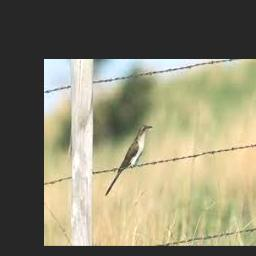Cuckoo: (106, 124, 154, 196)
